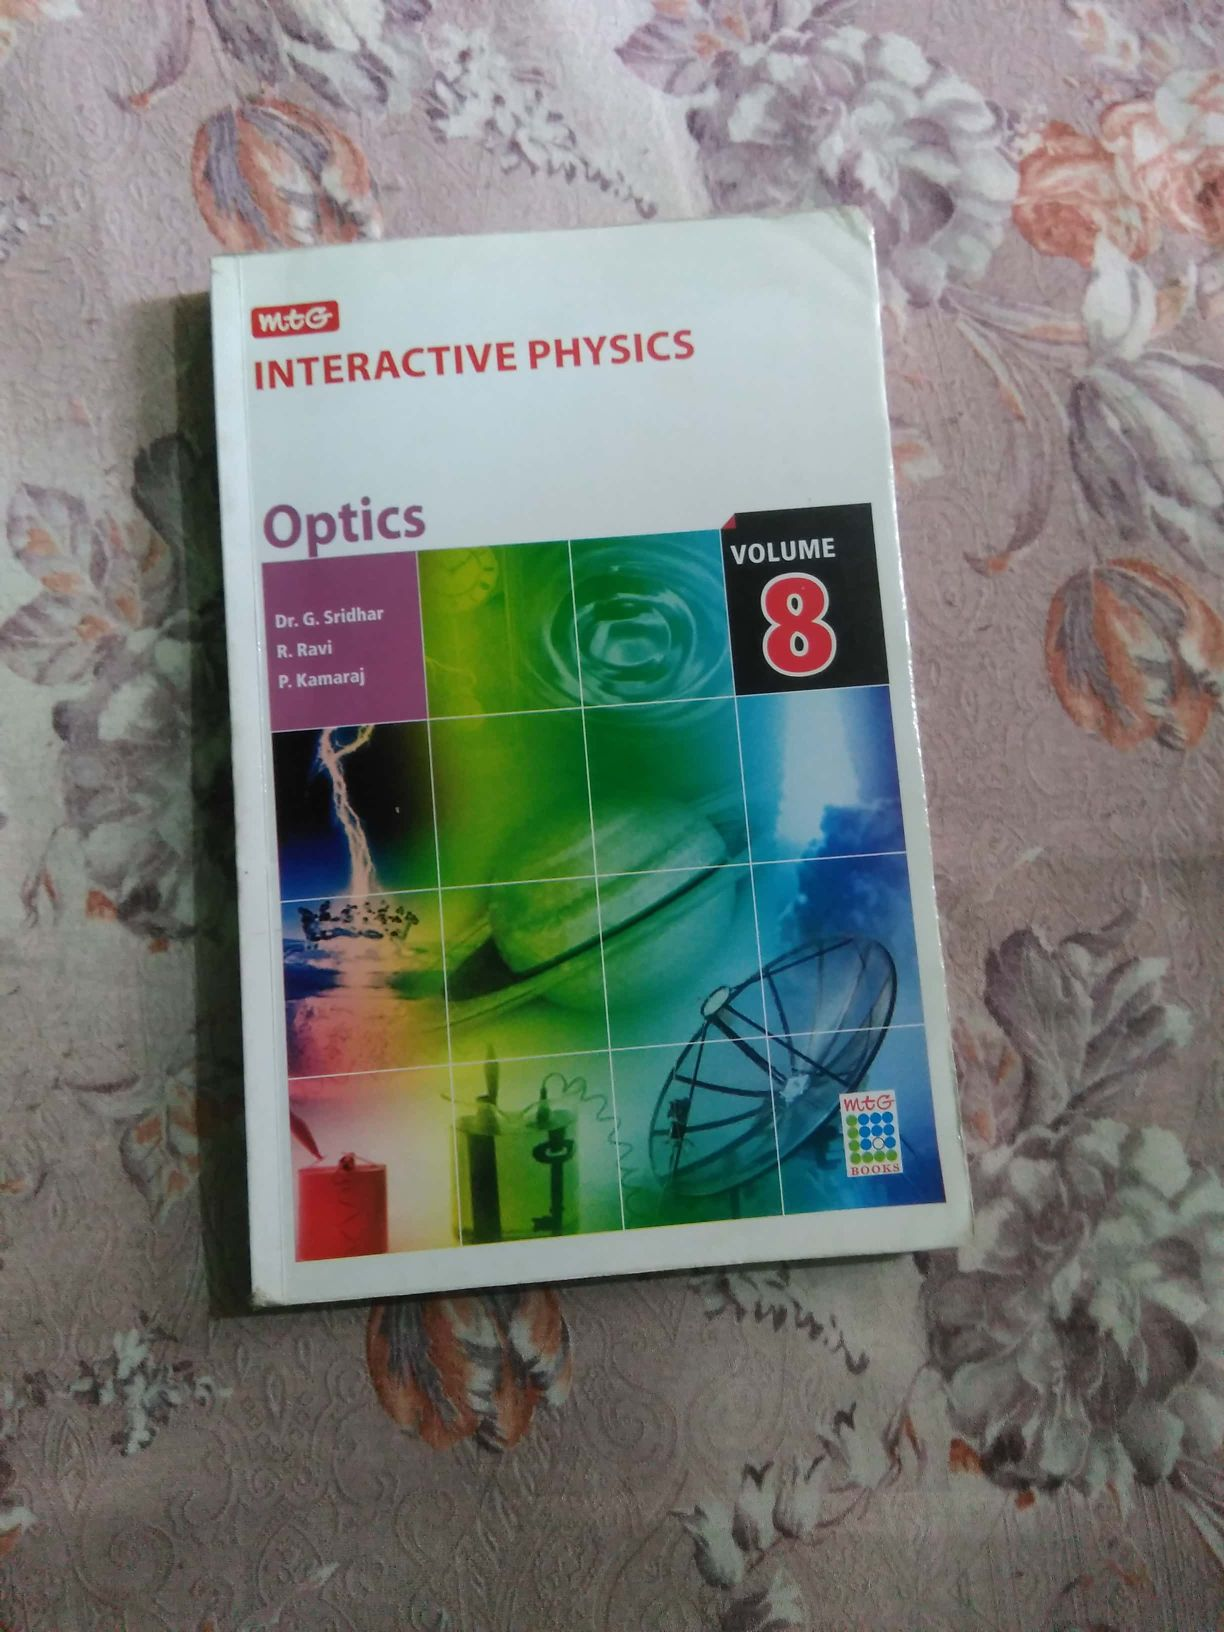optics: (175, 202, 1003, 1317)
